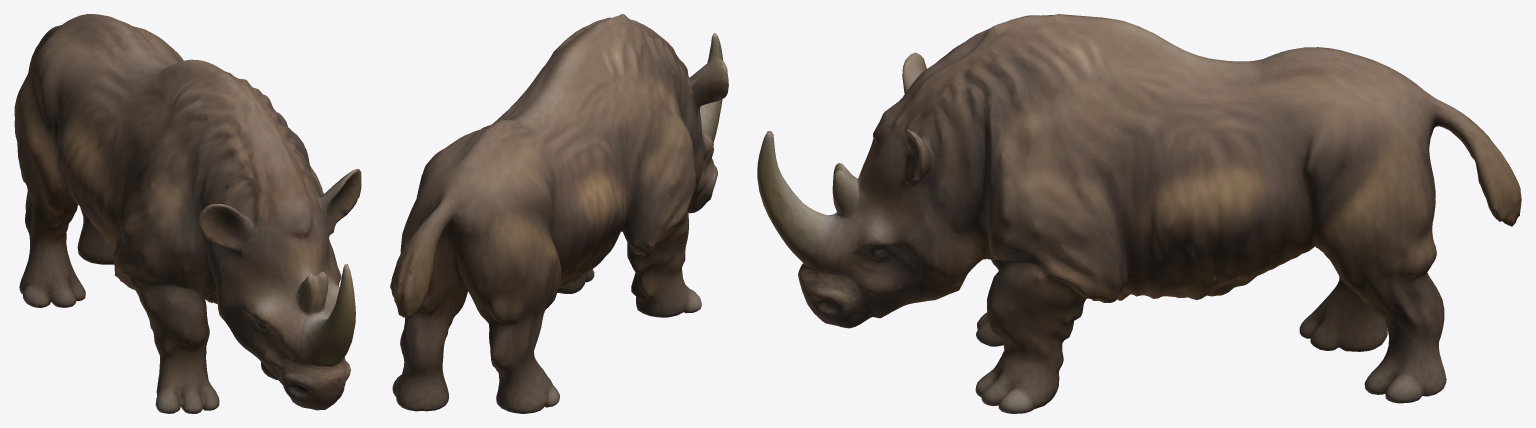
3 views of the same model, side by side, from view 1: azimuth 30°, elevation 25°; view 2: azimuth 150°, elevation 25°; view 3: azimuth 270°, elevation 25° (orthographic). The views are drawn at different scales.
Parts seen in each view (by area): view 1: world; view 2: world; view 3: world.
Boxes of the visible parts, x1,y1,x2,y2 form: world: [14, 14, 361, 413]; world: [390, 14, 728, 413]; world: [757, 14, 1521, 413].
Size of the model in its own units: 1.21 by 1.87 by 3.66.
1 material, 1 textured.
